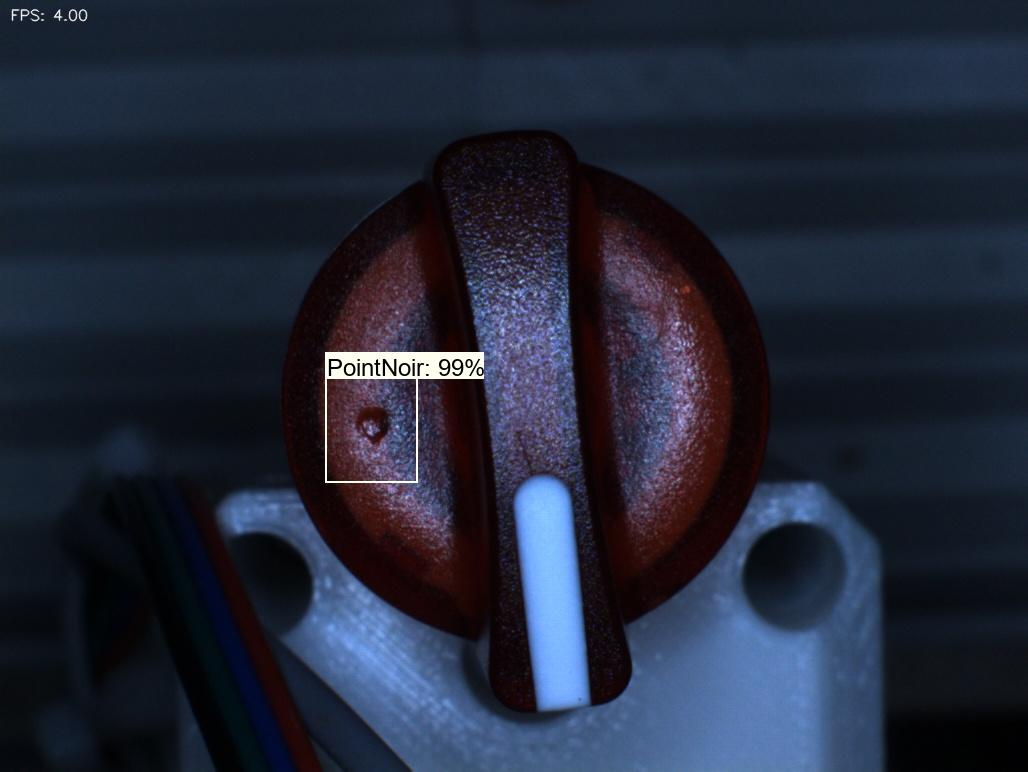Choc: (327, 388, 412, 472)
